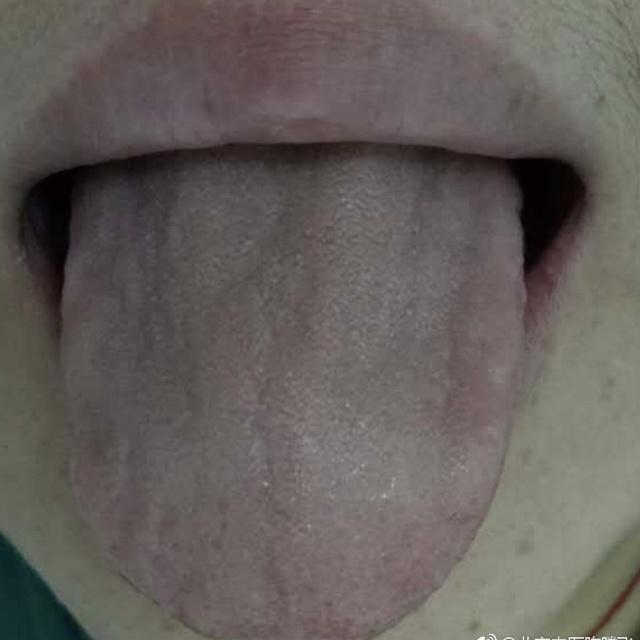baitaishe: (60, 162, 528, 640)
